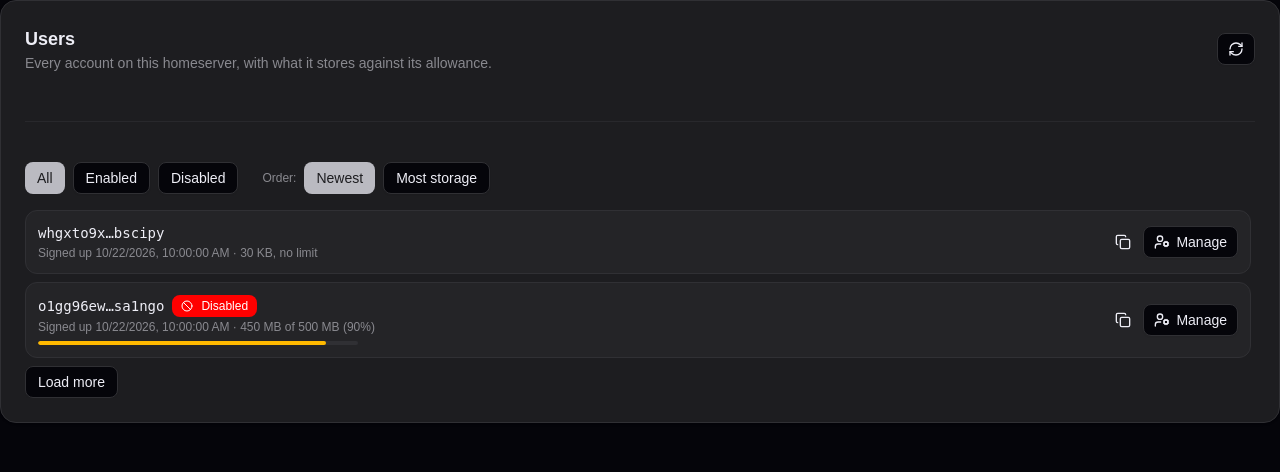
Test: UserList › loads the next page inside the scrolling box
What coordinates should you click on to do the following:
click the button with test id "user-more"
I would click on:
 (71, 382)
Its box is [25,366,118,398].
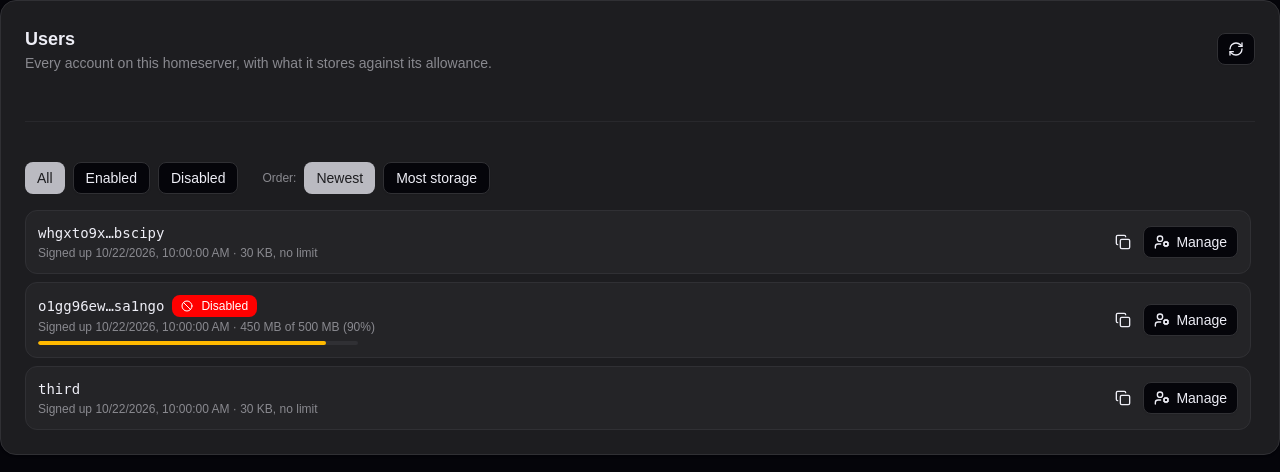
Now the number of elements with test id "user-row" is 3, box [25,210,1251,274]; [25,282,1251,358]; [25,366,1251,430]
Now the button with test id "user-more" is gone
